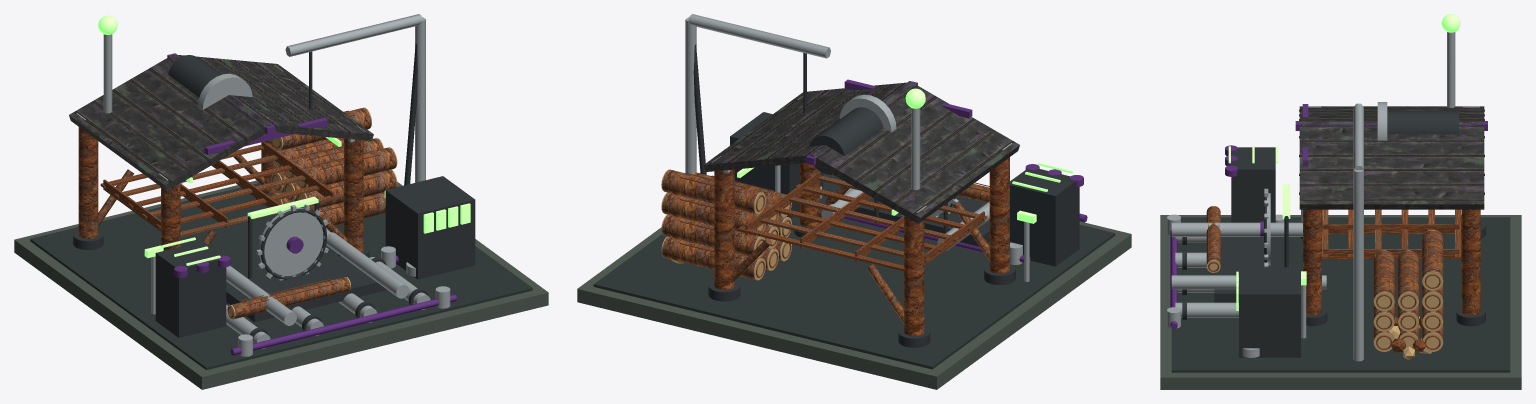
Rendered from timberline_v3_l05.glb.
3 renders of one model, left to right at view 1: azimuth 30°, elevation 25°; view 2: azimuth 150°, elevation 25°; view 3: azimuth 270°, elevation 25°, orthographic. The views are drawn at different scales.
Visible parts, largest first — view 1: timberline_v3_l05, stone_yard_base, hydraulic_sorter, auto_feed_motor, saw_carriage, circular_saw_blade, saw_safety_light; view 2: timberline_v3_l05, stone_yard_base, auto_feed_motor, hydraulic_sorter, saw_carriage; view 3: timberline_v3_l05, stone_yard_base, hydraulic_sorter, auto_feed_motor, saw_carriage.
Boxes of the visible parts, x1,y1,x2,y2 form: timberline_v3_l05: [30, 14, 532, 369]; stone_yard_base: [14, 180, 548, 389]; hydraulic_sorter: [385, 176, 475, 279]; auto_feed_motor: [155, 241, 226, 337]; saw_carriage: [226, 256, 386, 322]; circular_saw_blade: [259, 207, 323, 275]; saw_safety_light: [247, 196, 318, 218]; timberline_v3_l05: [593, 14, 1115, 369]; stone_yard_base: [577, 221, 1131, 389]; auto_feed_motor: [1010, 168, 1079, 266]; hydraulic_sorter: [730, 112, 823, 218]; saw_carriage: [853, 195, 989, 246]; timberline_v3_l05: [1167, 32, 1510, 372]; stone_yard_base: [1160, 215, 1521, 389]; hydraulic_sorter: [1239, 267, 1300, 357]; auto_feed_motor: [1231, 147, 1275, 222]; saw_carriage: [1214, 237, 1283, 302].
Bounding box in the file's own units: 6.5 × 4.46 × 6.1.
11 materials, 3 textured.
